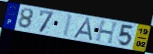5: (116, 24, 136, 48)
7: (38, 9, 55, 33)
8: (17, 8, 35, 30)
A: (72, 17, 95, 42)
H: (95, 20, 121, 45)
I: (61, 14, 74, 38)
